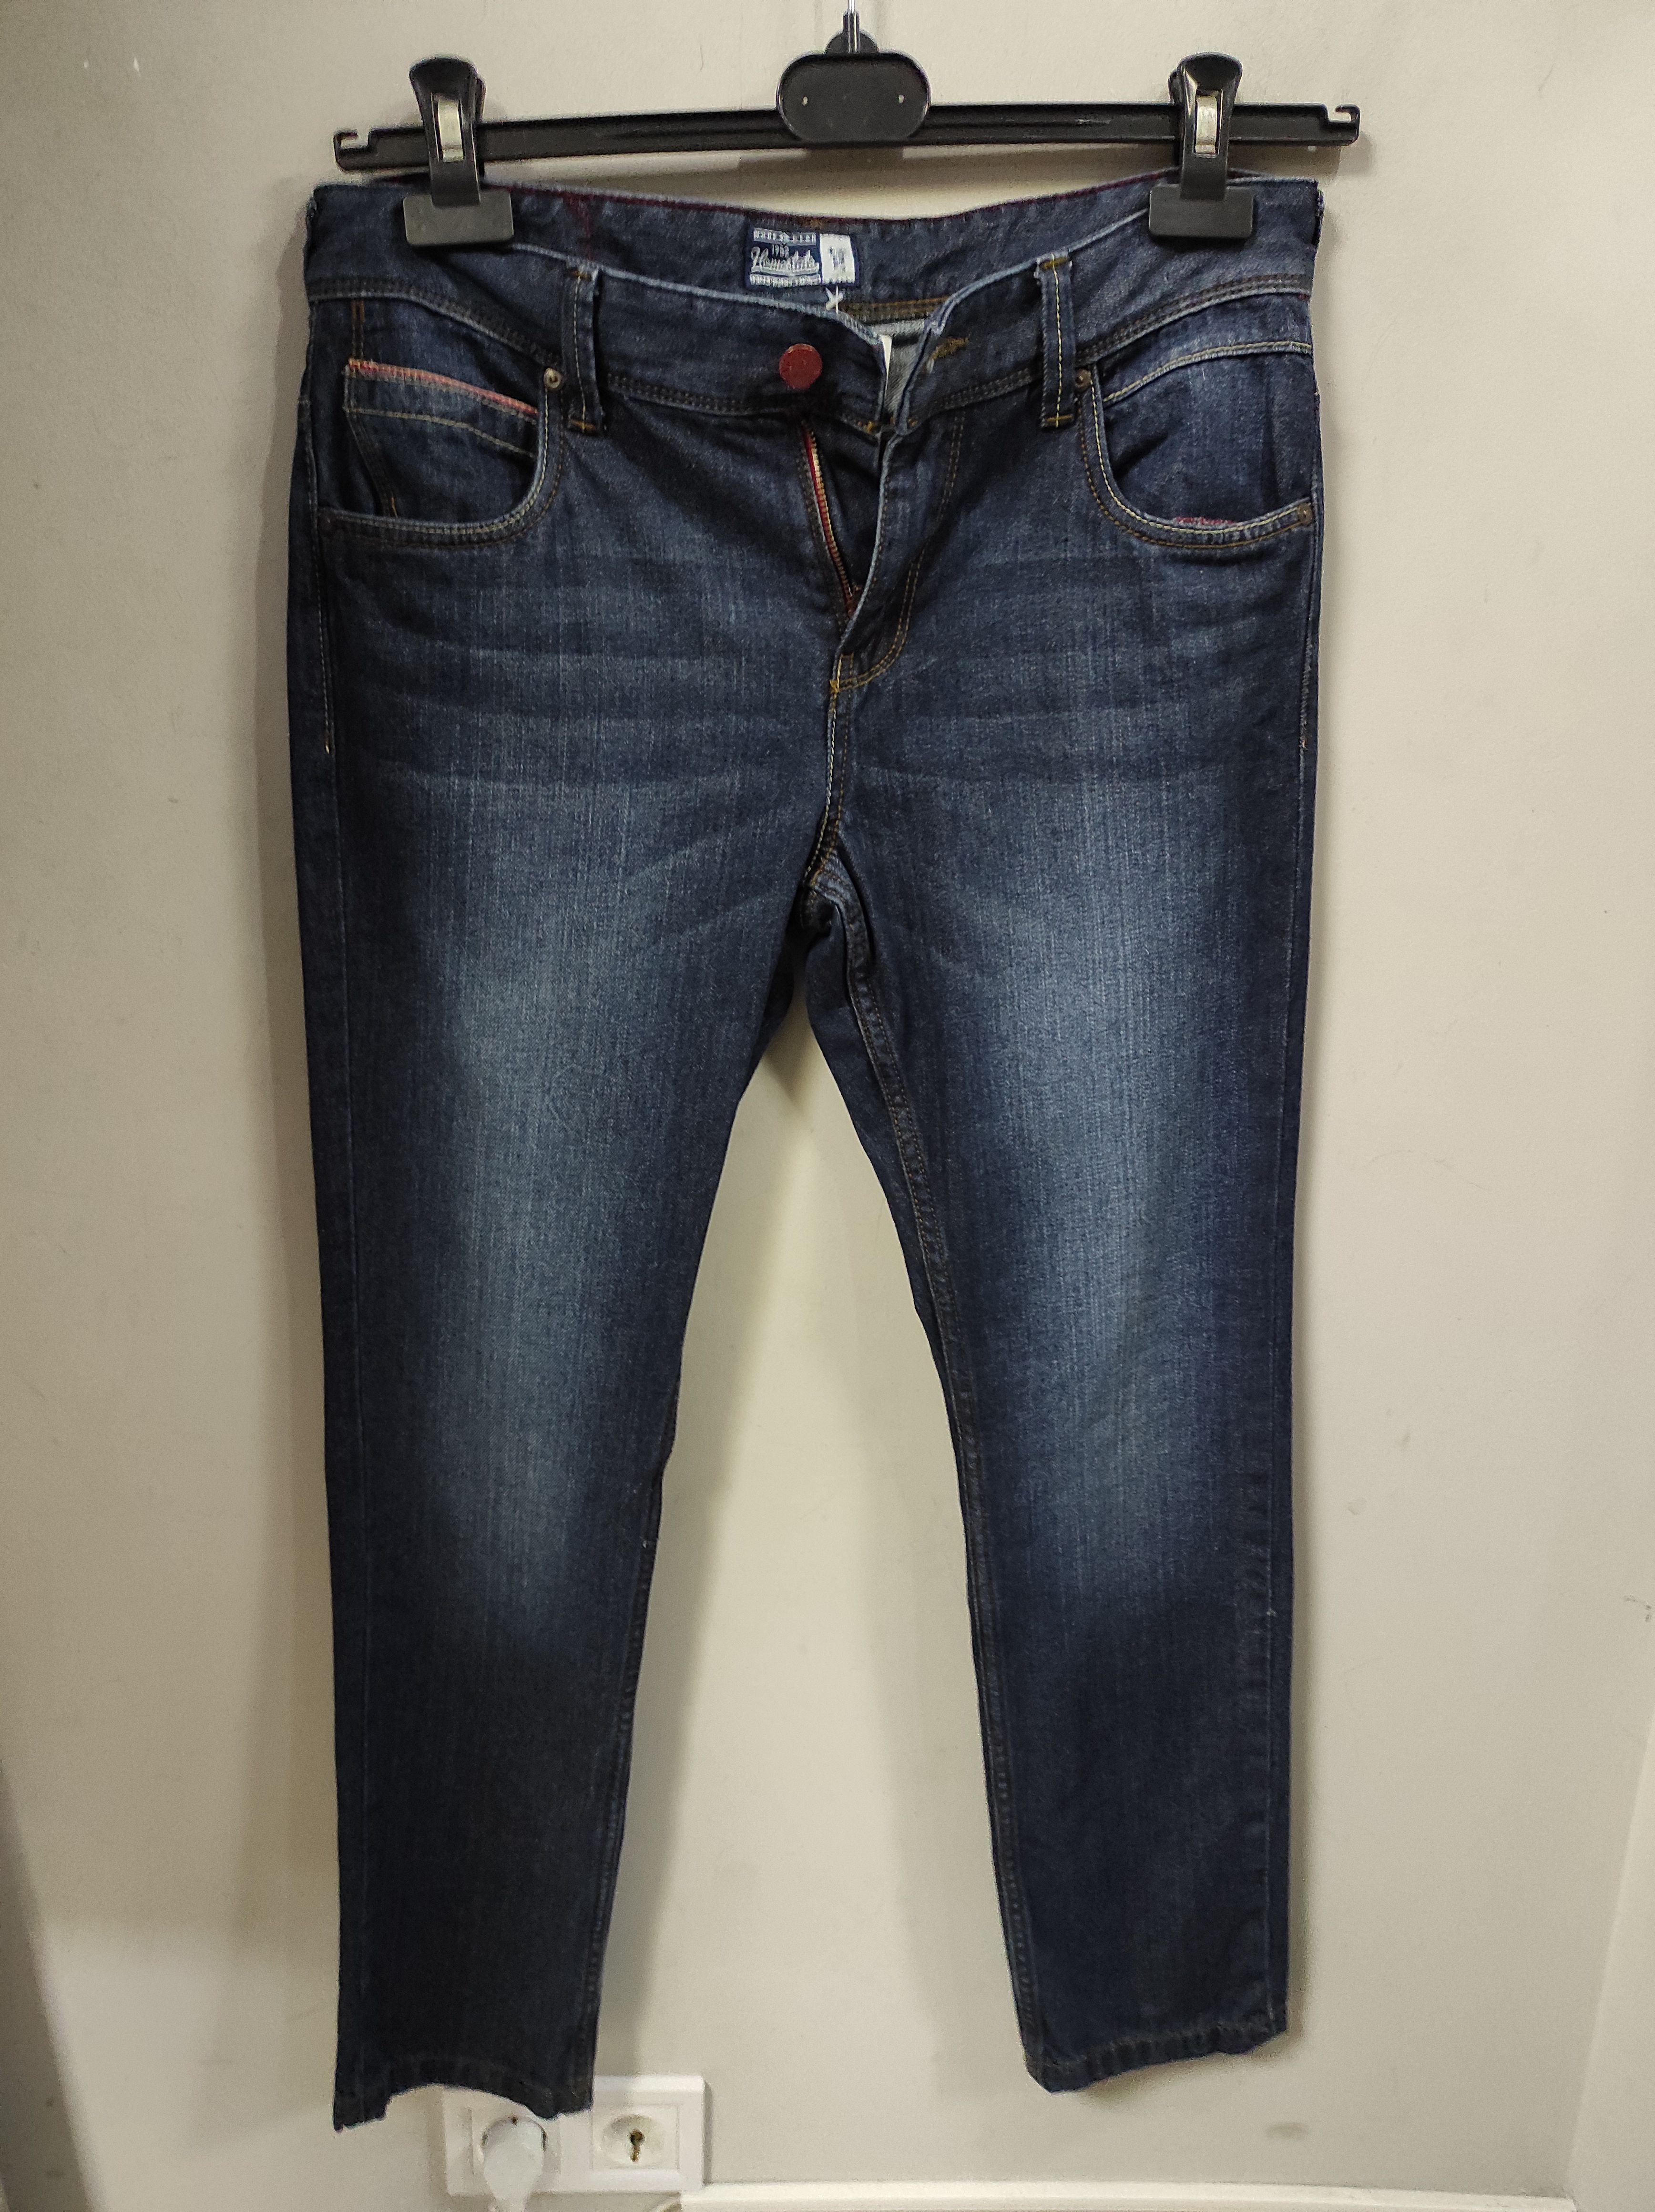clothes: (264, 150, 1325, 2127)
